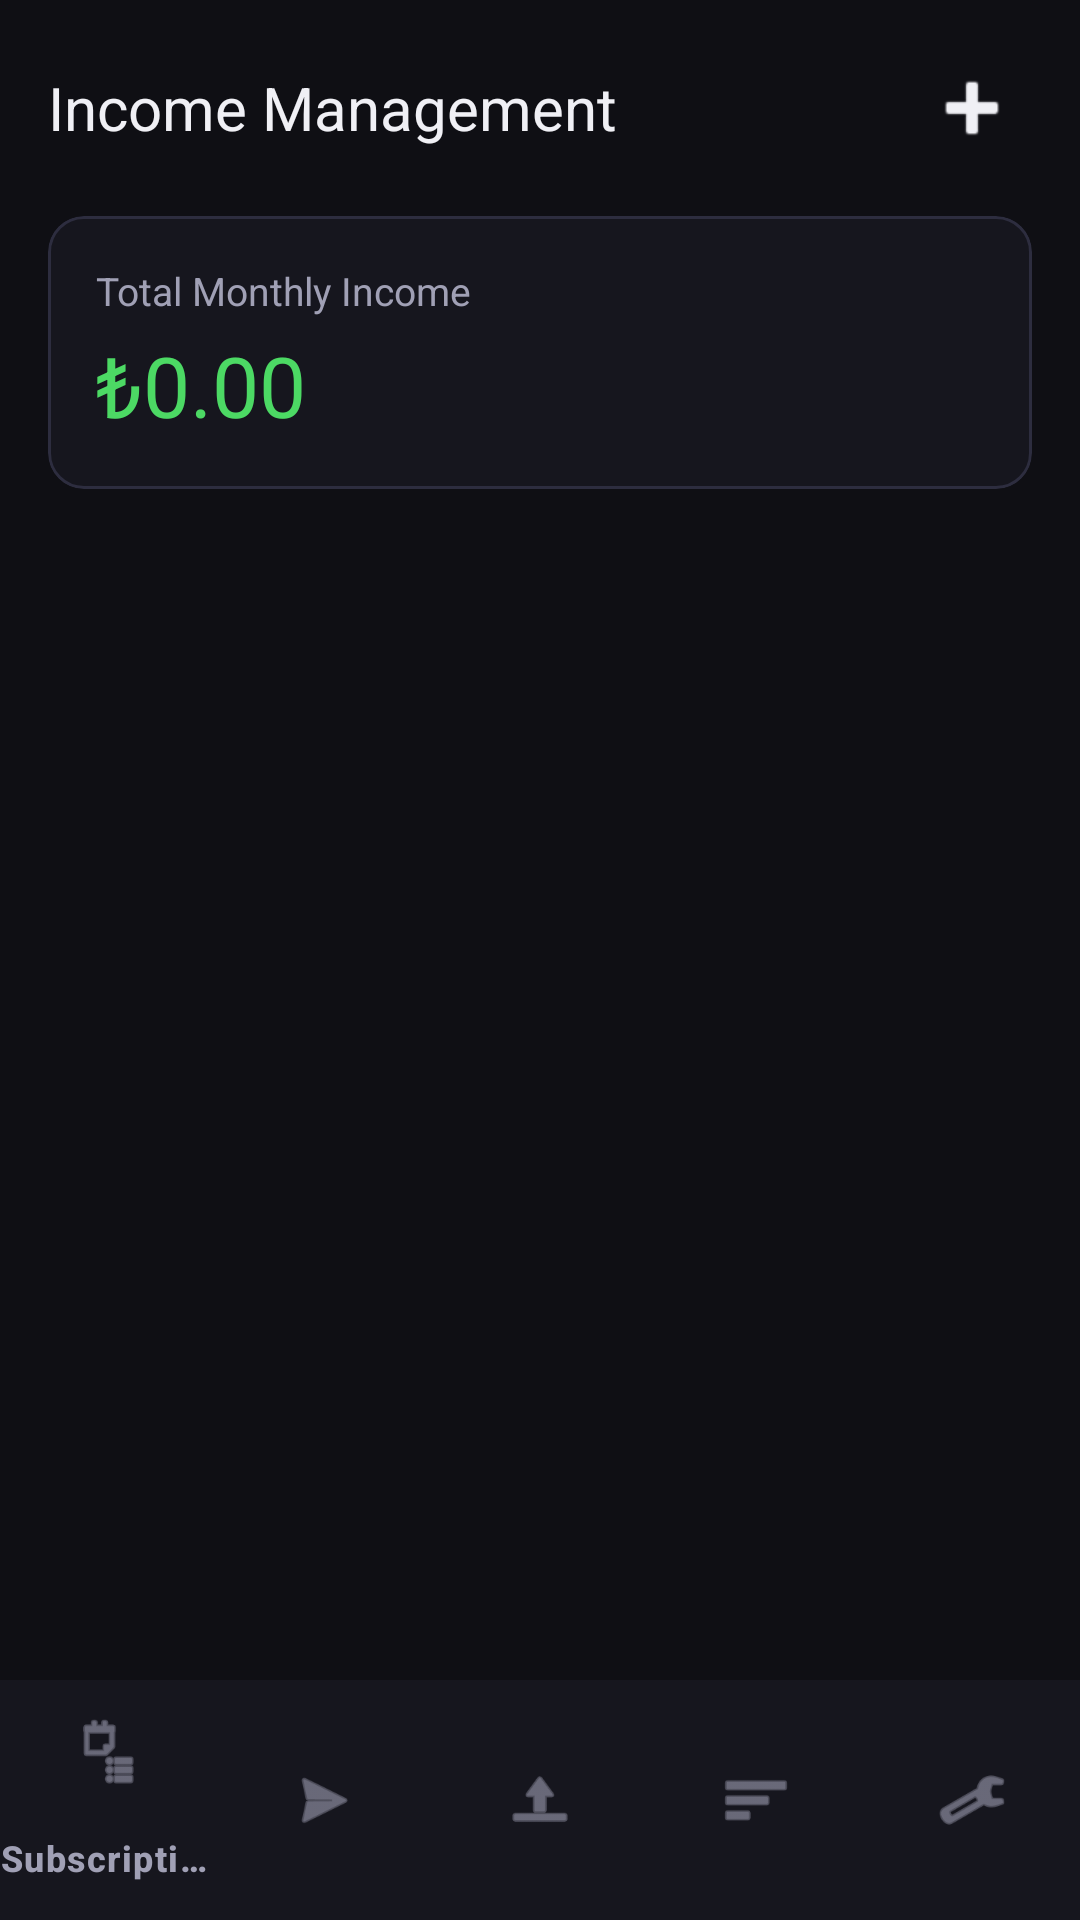

Screen size 1080 × 1920. Icon name, then its center in pixels as (x,y):
Add Income: (972,108)
